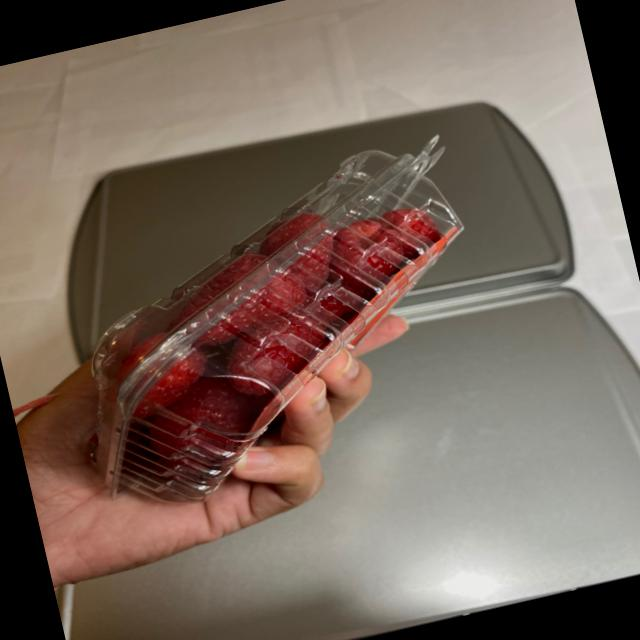raspberries: (74, 168, 488, 486)
